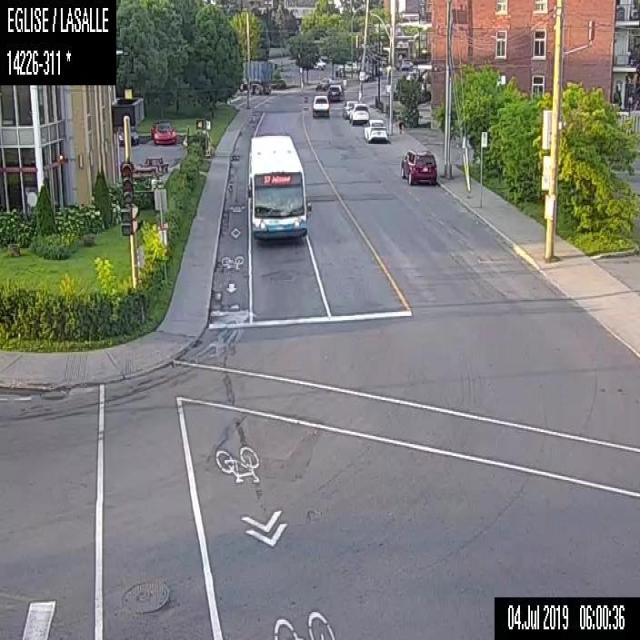bus: (245, 132, 312, 240)
vehicle: (399, 147, 436, 185), (239, 61, 272, 95), (150, 119, 176, 143), (364, 118, 388, 142), (311, 94, 329, 117), (348, 103, 368, 123), (118, 124, 138, 144), (326, 83, 344, 100), (342, 100, 358, 118), (316, 76, 333, 90), (313, 56, 325, 70), (401, 60, 412, 70)
